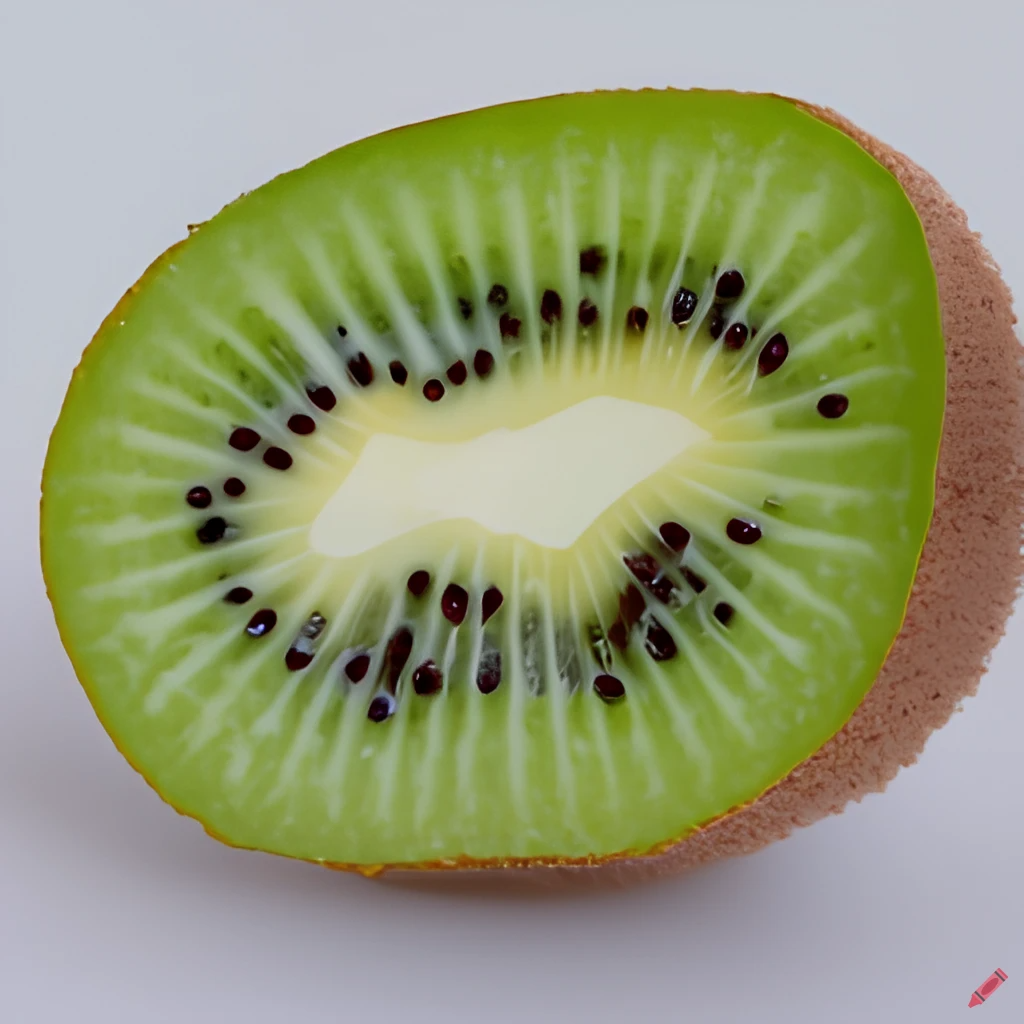Kiwi: (0, 83, 1024, 874)
